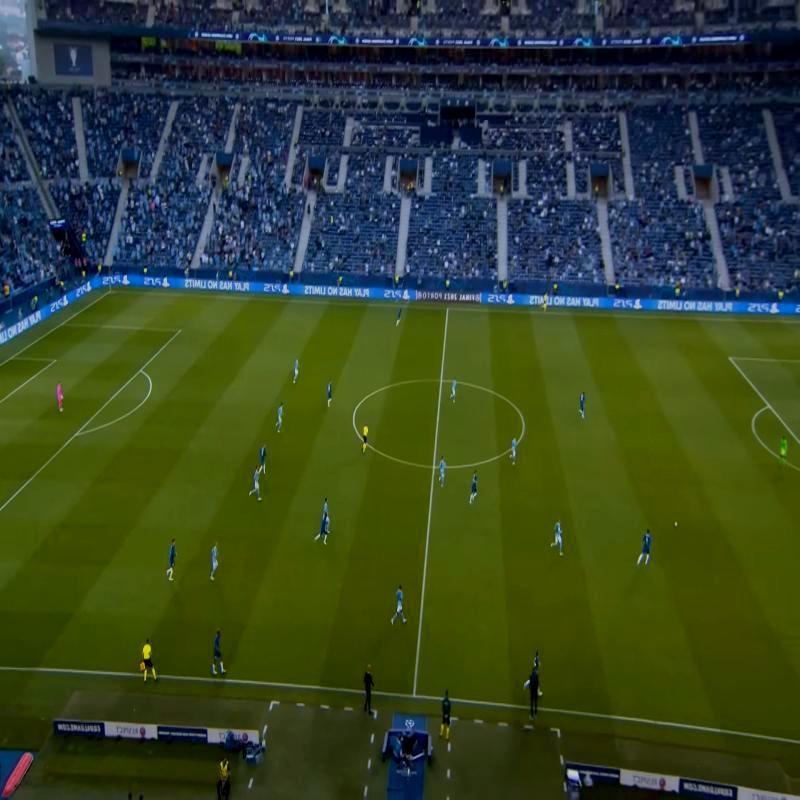1: (103, 284, 118, 300)
10: (761, 398, 777, 414), (134, 363, 148, 379)
11: (70, 426, 84, 442)
13: (440, 302, 456, 316)
14: (434, 374, 449, 388)
15: (427, 460, 440, 474)
16: (407, 688, 422, 704)
2: (55, 317, 70, 332)
3: (4, 349, 20, 364)
7: (48, 352, 63, 368)
9: (721, 350, 737, 366), (173, 322, 188, 338)
c: (515, 419, 530, 434), (345, 407, 359, 421)
